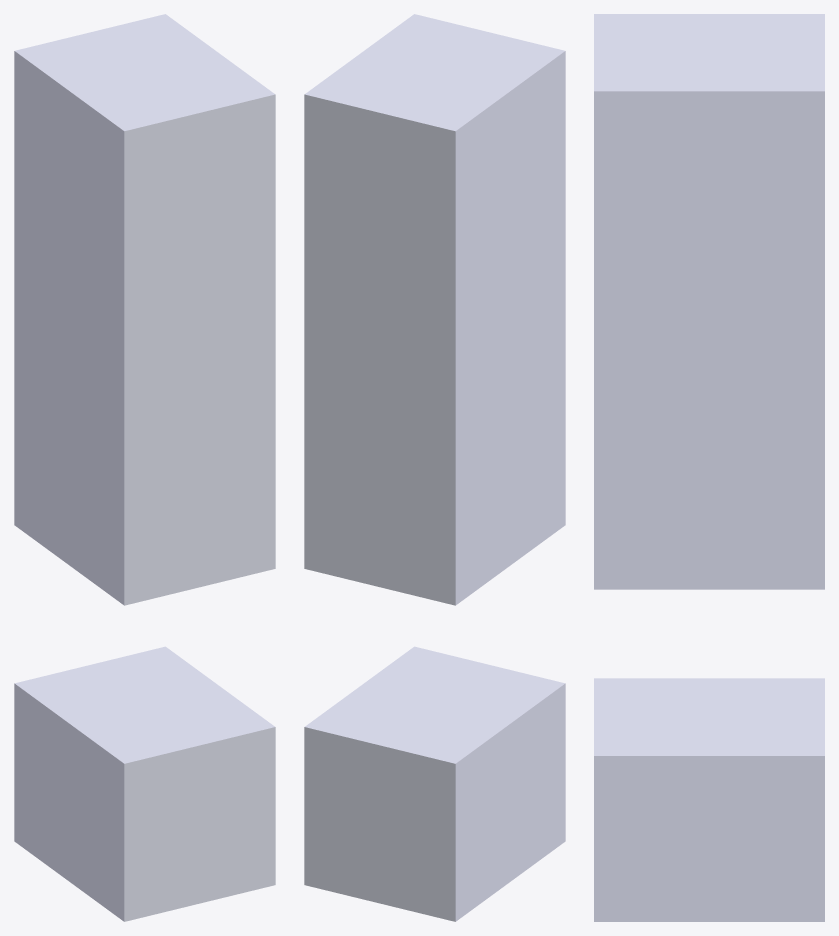
Rendered from 58fd78e7-bdbf-496c-96c4-793ea0e8ed09.glb.
The picture shows the model from 3 angles, left to right: view 1: azimuth 30°, elevation 25°; view 2: azimuth 150°, elevation 25°; view 3: azimuth 270°, elevation 25°; orthographic projection. The views are drawn at different scales.
Visible parts, largest first — view 1: !_DeltaBlock_Grey; view 2: !_DeltaBlock_Grey; view 3: !_DeltaBlock_Grey.
Part boxes in pixels (x1,y1,x2,y2): !_DeltaBlock_Grey: [14, 14, 275, 921]; !_DeltaBlock_Grey: [304, 14, 565, 921]; !_DeltaBlock_Grey: [594, 14, 824, 921].
Size of what is drawn, in the model's own units: 0.0357 by 0.1786 by 0.045.
Materials: 2 (2 with a texture image).
